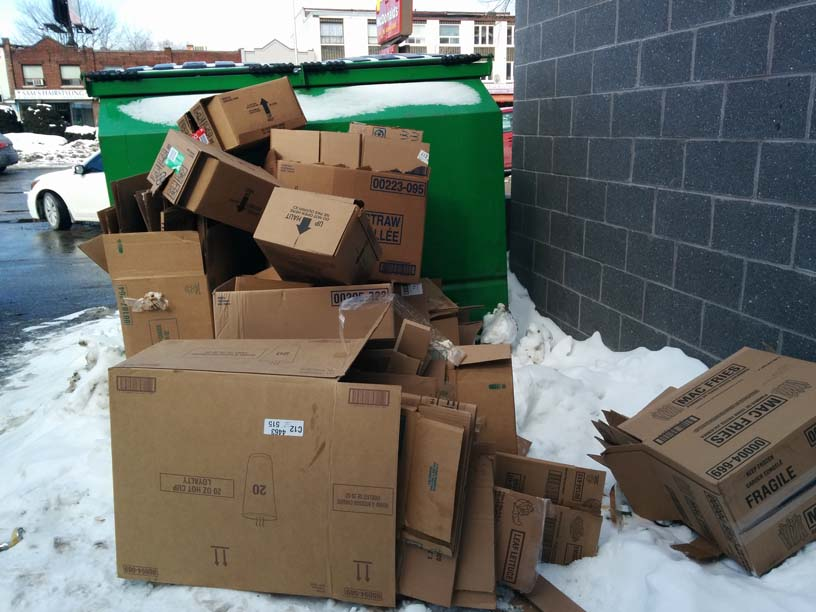Dumpster: (87, 32, 509, 246)
